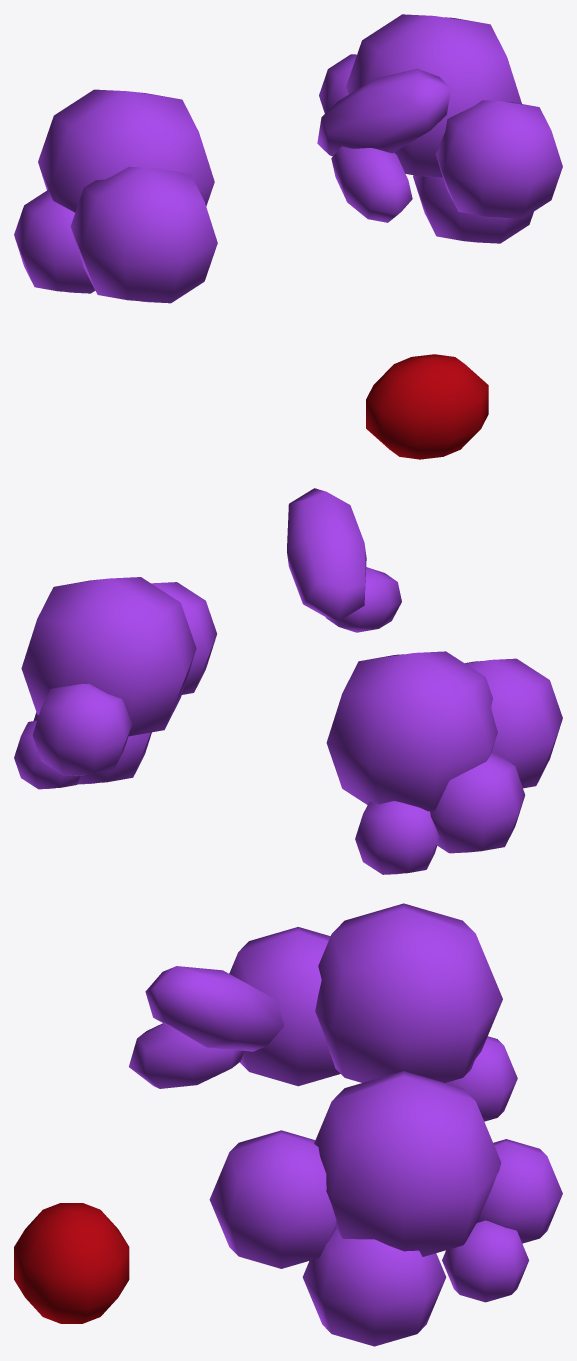
File: CU_ClownHair.fbx
3 views of the same model, one above another, from view 1: azimuth 30°, elevation 25°; view 2: azimuth 150°, elevation 25°; view 3: azimuth 270°, elevation 25° (orthographic). The views are drawn at different scales.
Parts seen in each view (by area): view 1: ClownHair, Sphere.001; view 2: ClownHair; view 3: ClownHair, Sphere.001.
Part boxes in pixels (box(x1,y1,x2,y2)): ClownHair: box(14, 14, 562, 303); Sphere.001: box(366, 354, 488, 459); ClownHair: box(14, 488, 562, 874); ClownHair: box(129, 903, 562, 1346); Sphere.001: box(14, 1203, 129, 1323).
Size of the model in its own units: 180 by 115 by 154.
